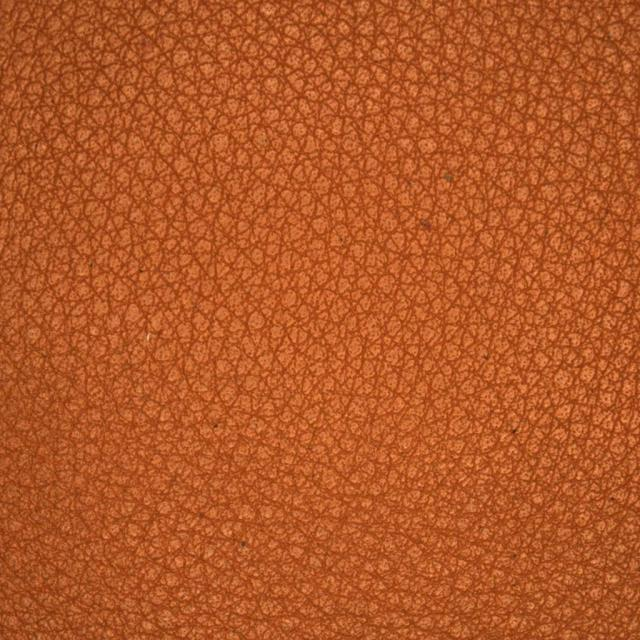Hole: (346, 133, 514, 269)
